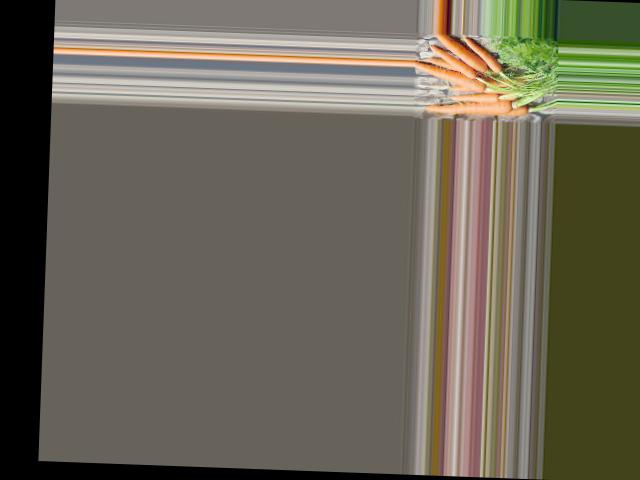carrot: (465, 37, 504, 73)
